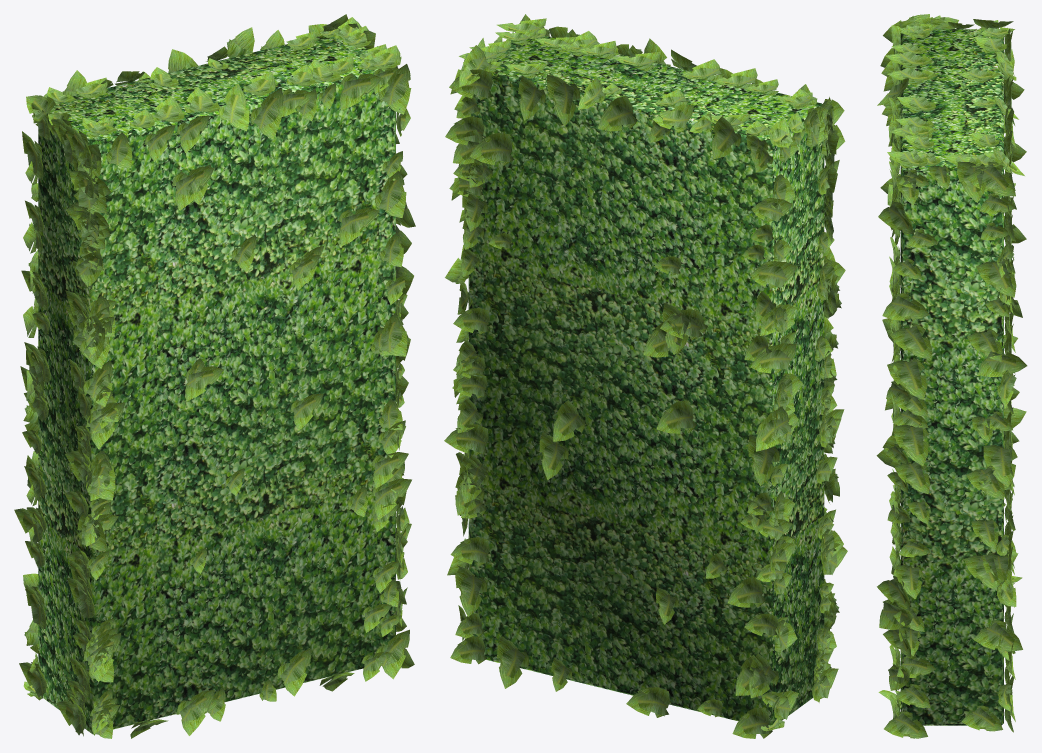
The model's file is model_bush.glb.
3 renders of one model, left to right at view 1: azimuth 30°, elevation 25°; view 2: azimuth 150°, elevation 25°; view 3: azimuth 270°, elevation 25°, orthographic. The views are drawn at different scales.
Visible parts, largest first — view 1: Bush Boxwood-Wall-R40427-00 formdecor N190218.001; view 2: Bush Boxwood-Wall-R40427-00 formdecor N190218.001; view 3: Bush Boxwood-Wall-R40427-00 formdecor N190218.001.
Part boxes in pixels (bbox=[...]): Bush Boxwood-Wall-R40427-00 formdecor N190218.001: bbox=[14, 14, 415, 738]; Bush Boxwood-Wall-R40427-00 formdecor N190218.001: bbox=[444, 14, 847, 738]; Bush Boxwood-Wall-R40427-00 formdecor N190218.001: bbox=[876, 14, 1027, 738].
Bounding box in the file's own units: 1 × 1.74 × 0.4.
Materials: 2 (2 with a texture image).
